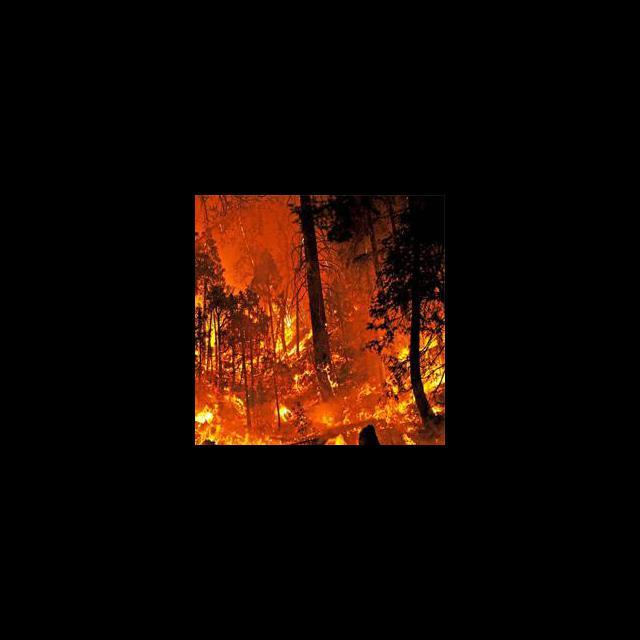Fire: (195, 279, 444, 444)
